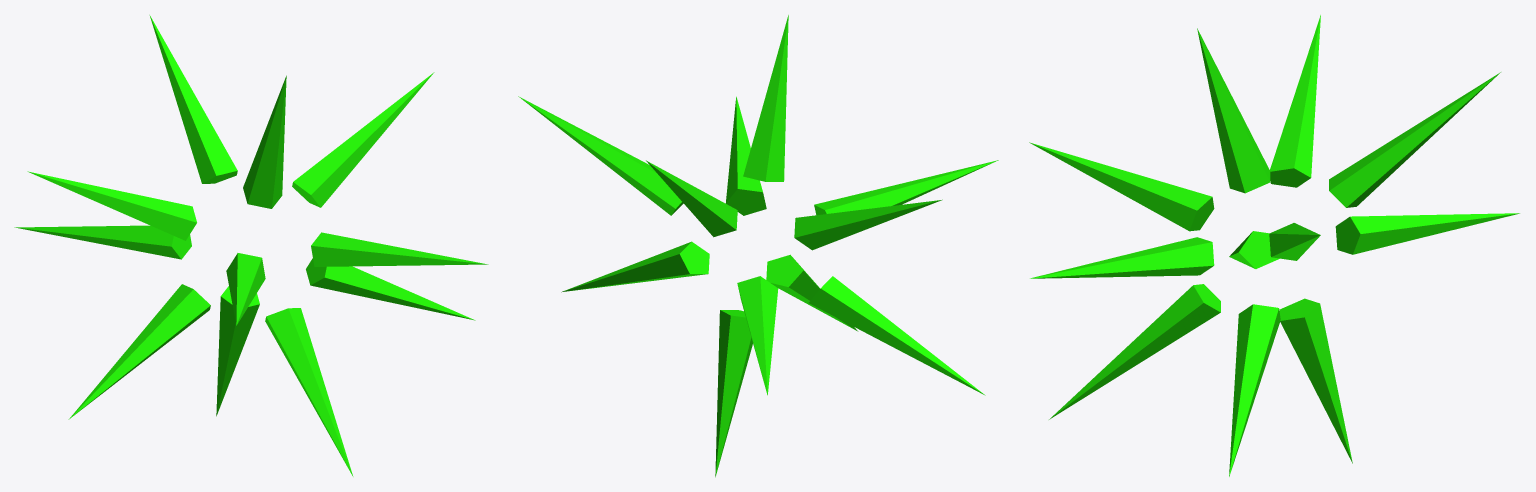
Rendered from Spikes.obj.
3 renders of one model, left to right at view 1: azimuth 30°, elevation 25°; view 2: azimuth 150°, elevation 25°; view 3: azimuth 270°, elevation 25°, orthographic. The views are drawn at different scales.
Parts seen in each view (by area): view 1: Spikes; view 2: Spikes; view 3: Spikes.
Part boxes in pixels (left/top/right/bottom): Spikes: left=14, top=15, right=488, bottom=476; Spikes: left=518, top=15, right=998, bottom=477; Spikes: left=1029, top=15, right=1519, bottom=476.
Size of the model in its own units: 1.83 by 1.69 by 1.73.
